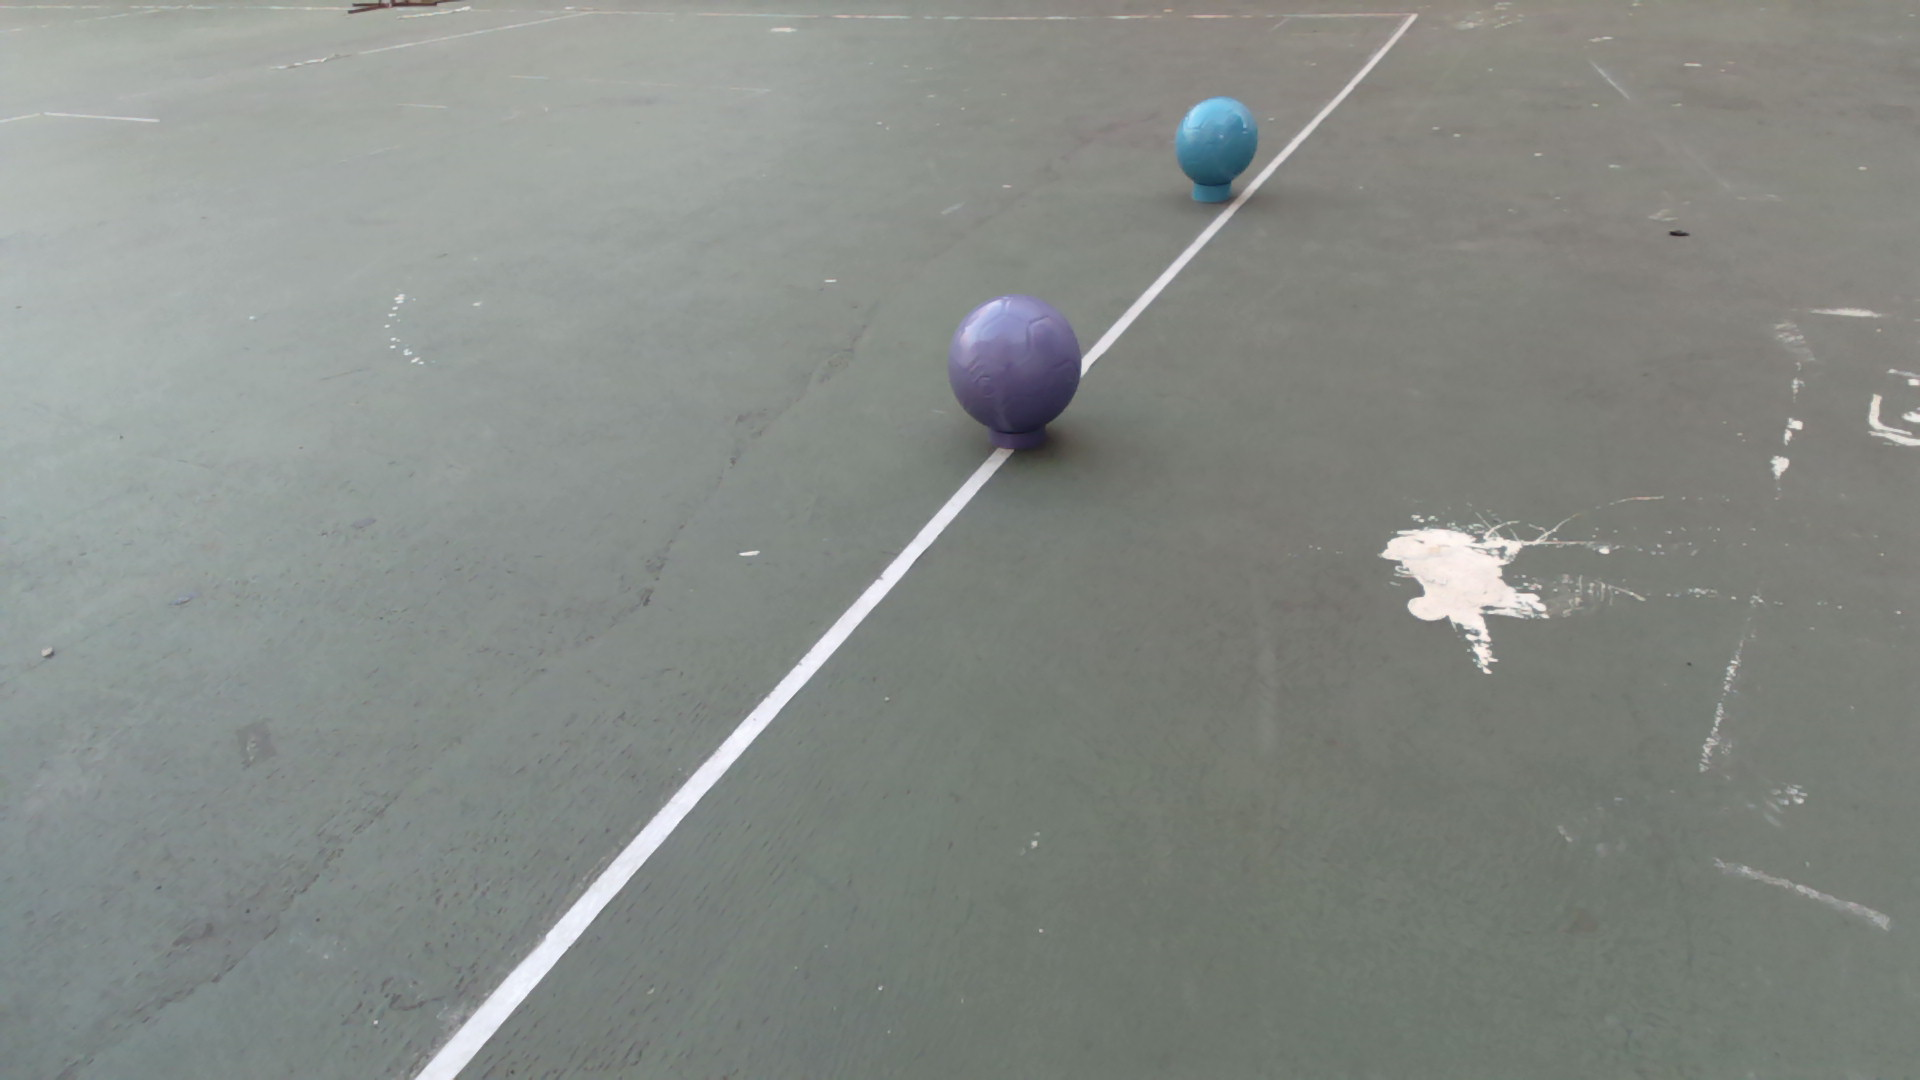Blue ball: (1174, 95, 1261, 189)
Purple ball: (945, 291, 1083, 434)
